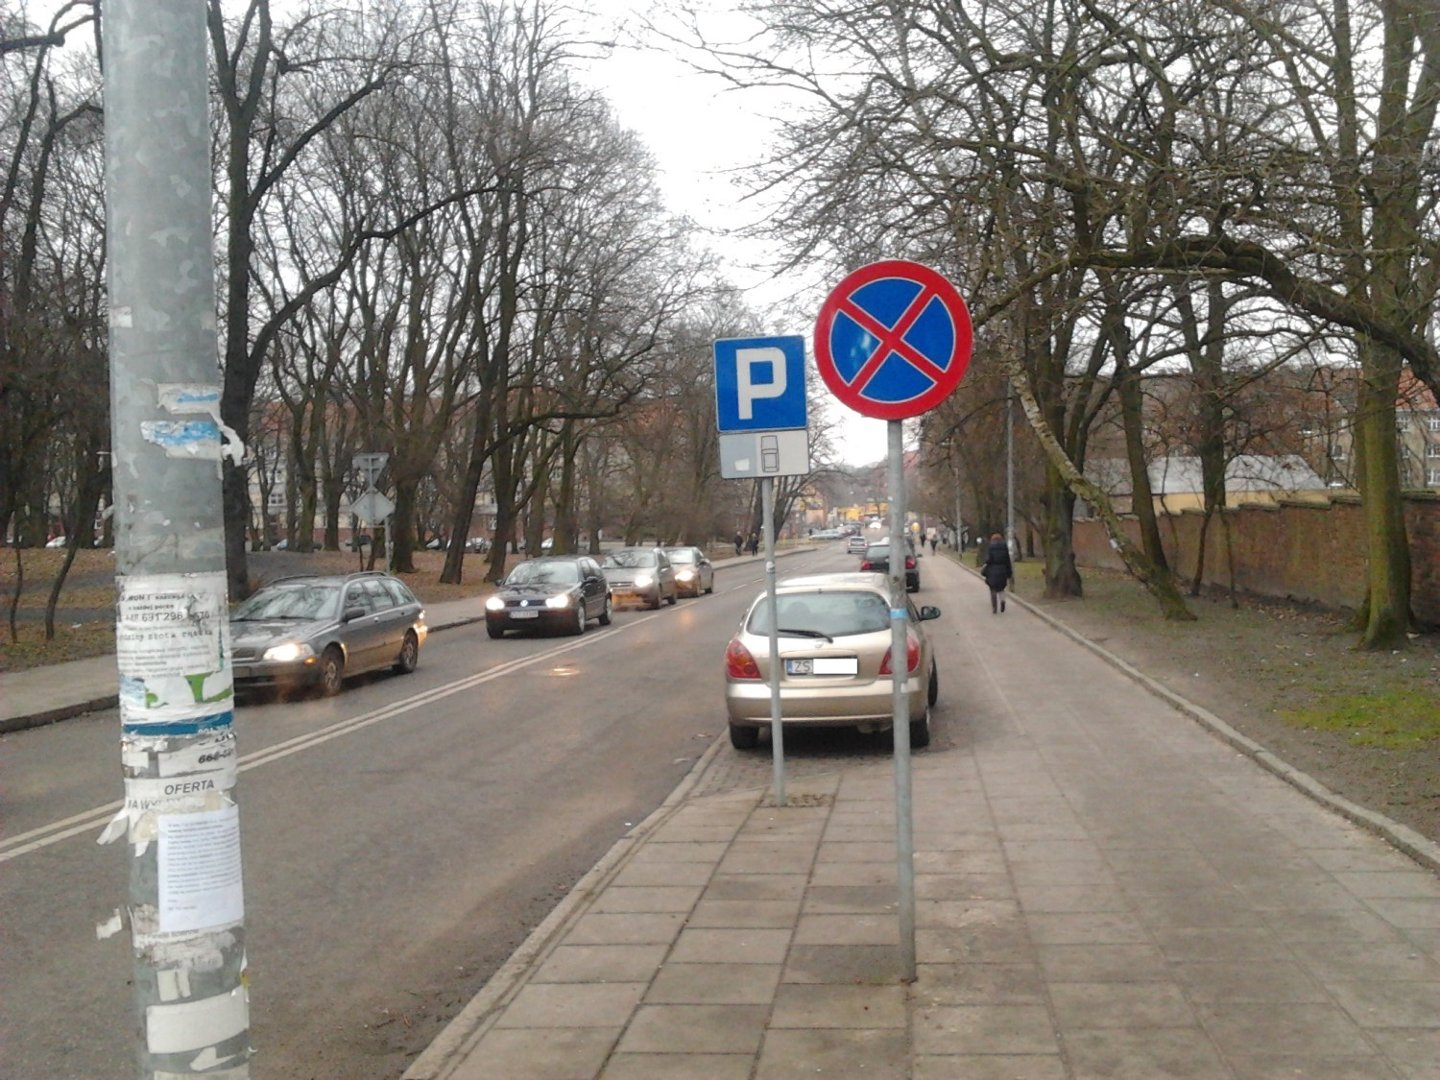no_stopping_sign: (811, 260, 974, 420)
